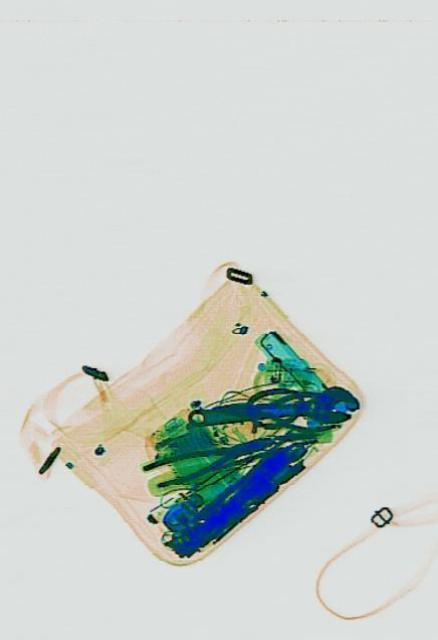Pliers: (139, 426, 271, 492)
Wrench: (186, 382, 357, 436)
